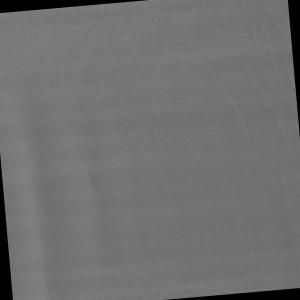Wrinkle: (1, 61, 84, 300)
